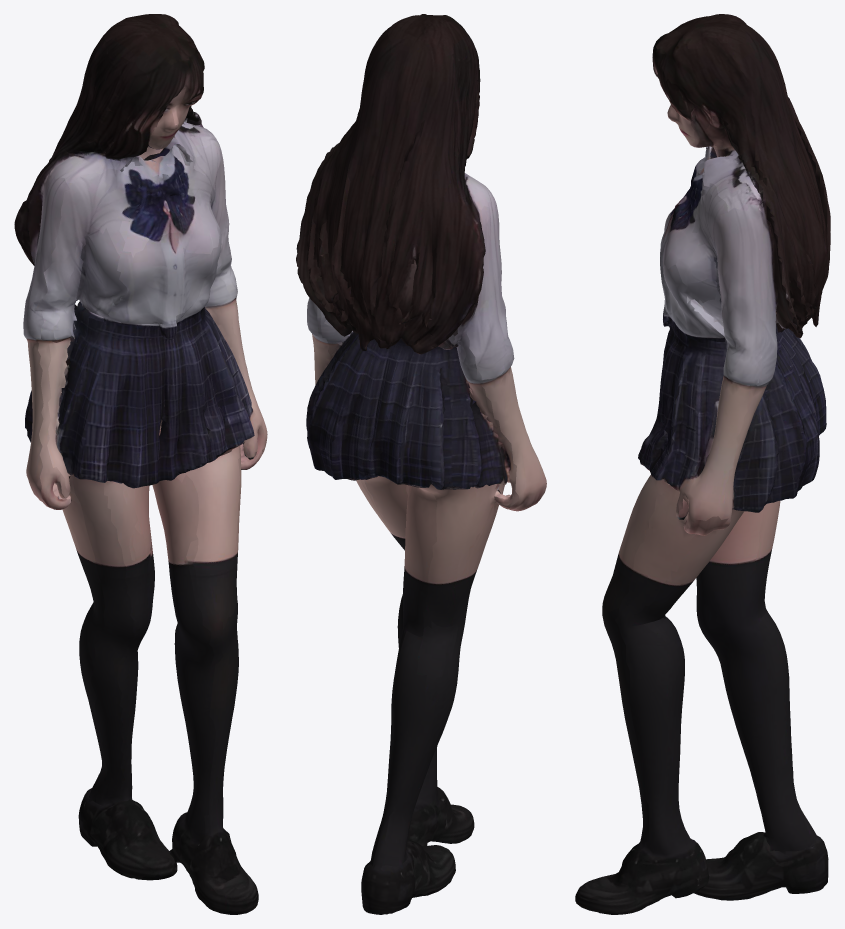
Rendered from linh.glb.
The picture shows the model from 3 angles, left to right: view 1: azimuth 30°, elevation 25°; view 2: azimuth 150°, elevation 25°; view 3: azimuth 270°, elevation 25°; orthographic projection.
Parts seen in each view (by area): view 1: textured_mesh.obj; view 2: textured_mesh.obj; view 3: textured_mesh.obj.
Boxes of the visible parts, x1,y1,x2,y2 form: textured_mesh.obj: (14,14,267,914); textured_mesh.obj: (296,14,546,914); textured_mesh.obj: (575,14,830,914).
Bounding box in the file's own units: 0.5494 × 1.99 × 0.5293.
1 material, 1 textured.
